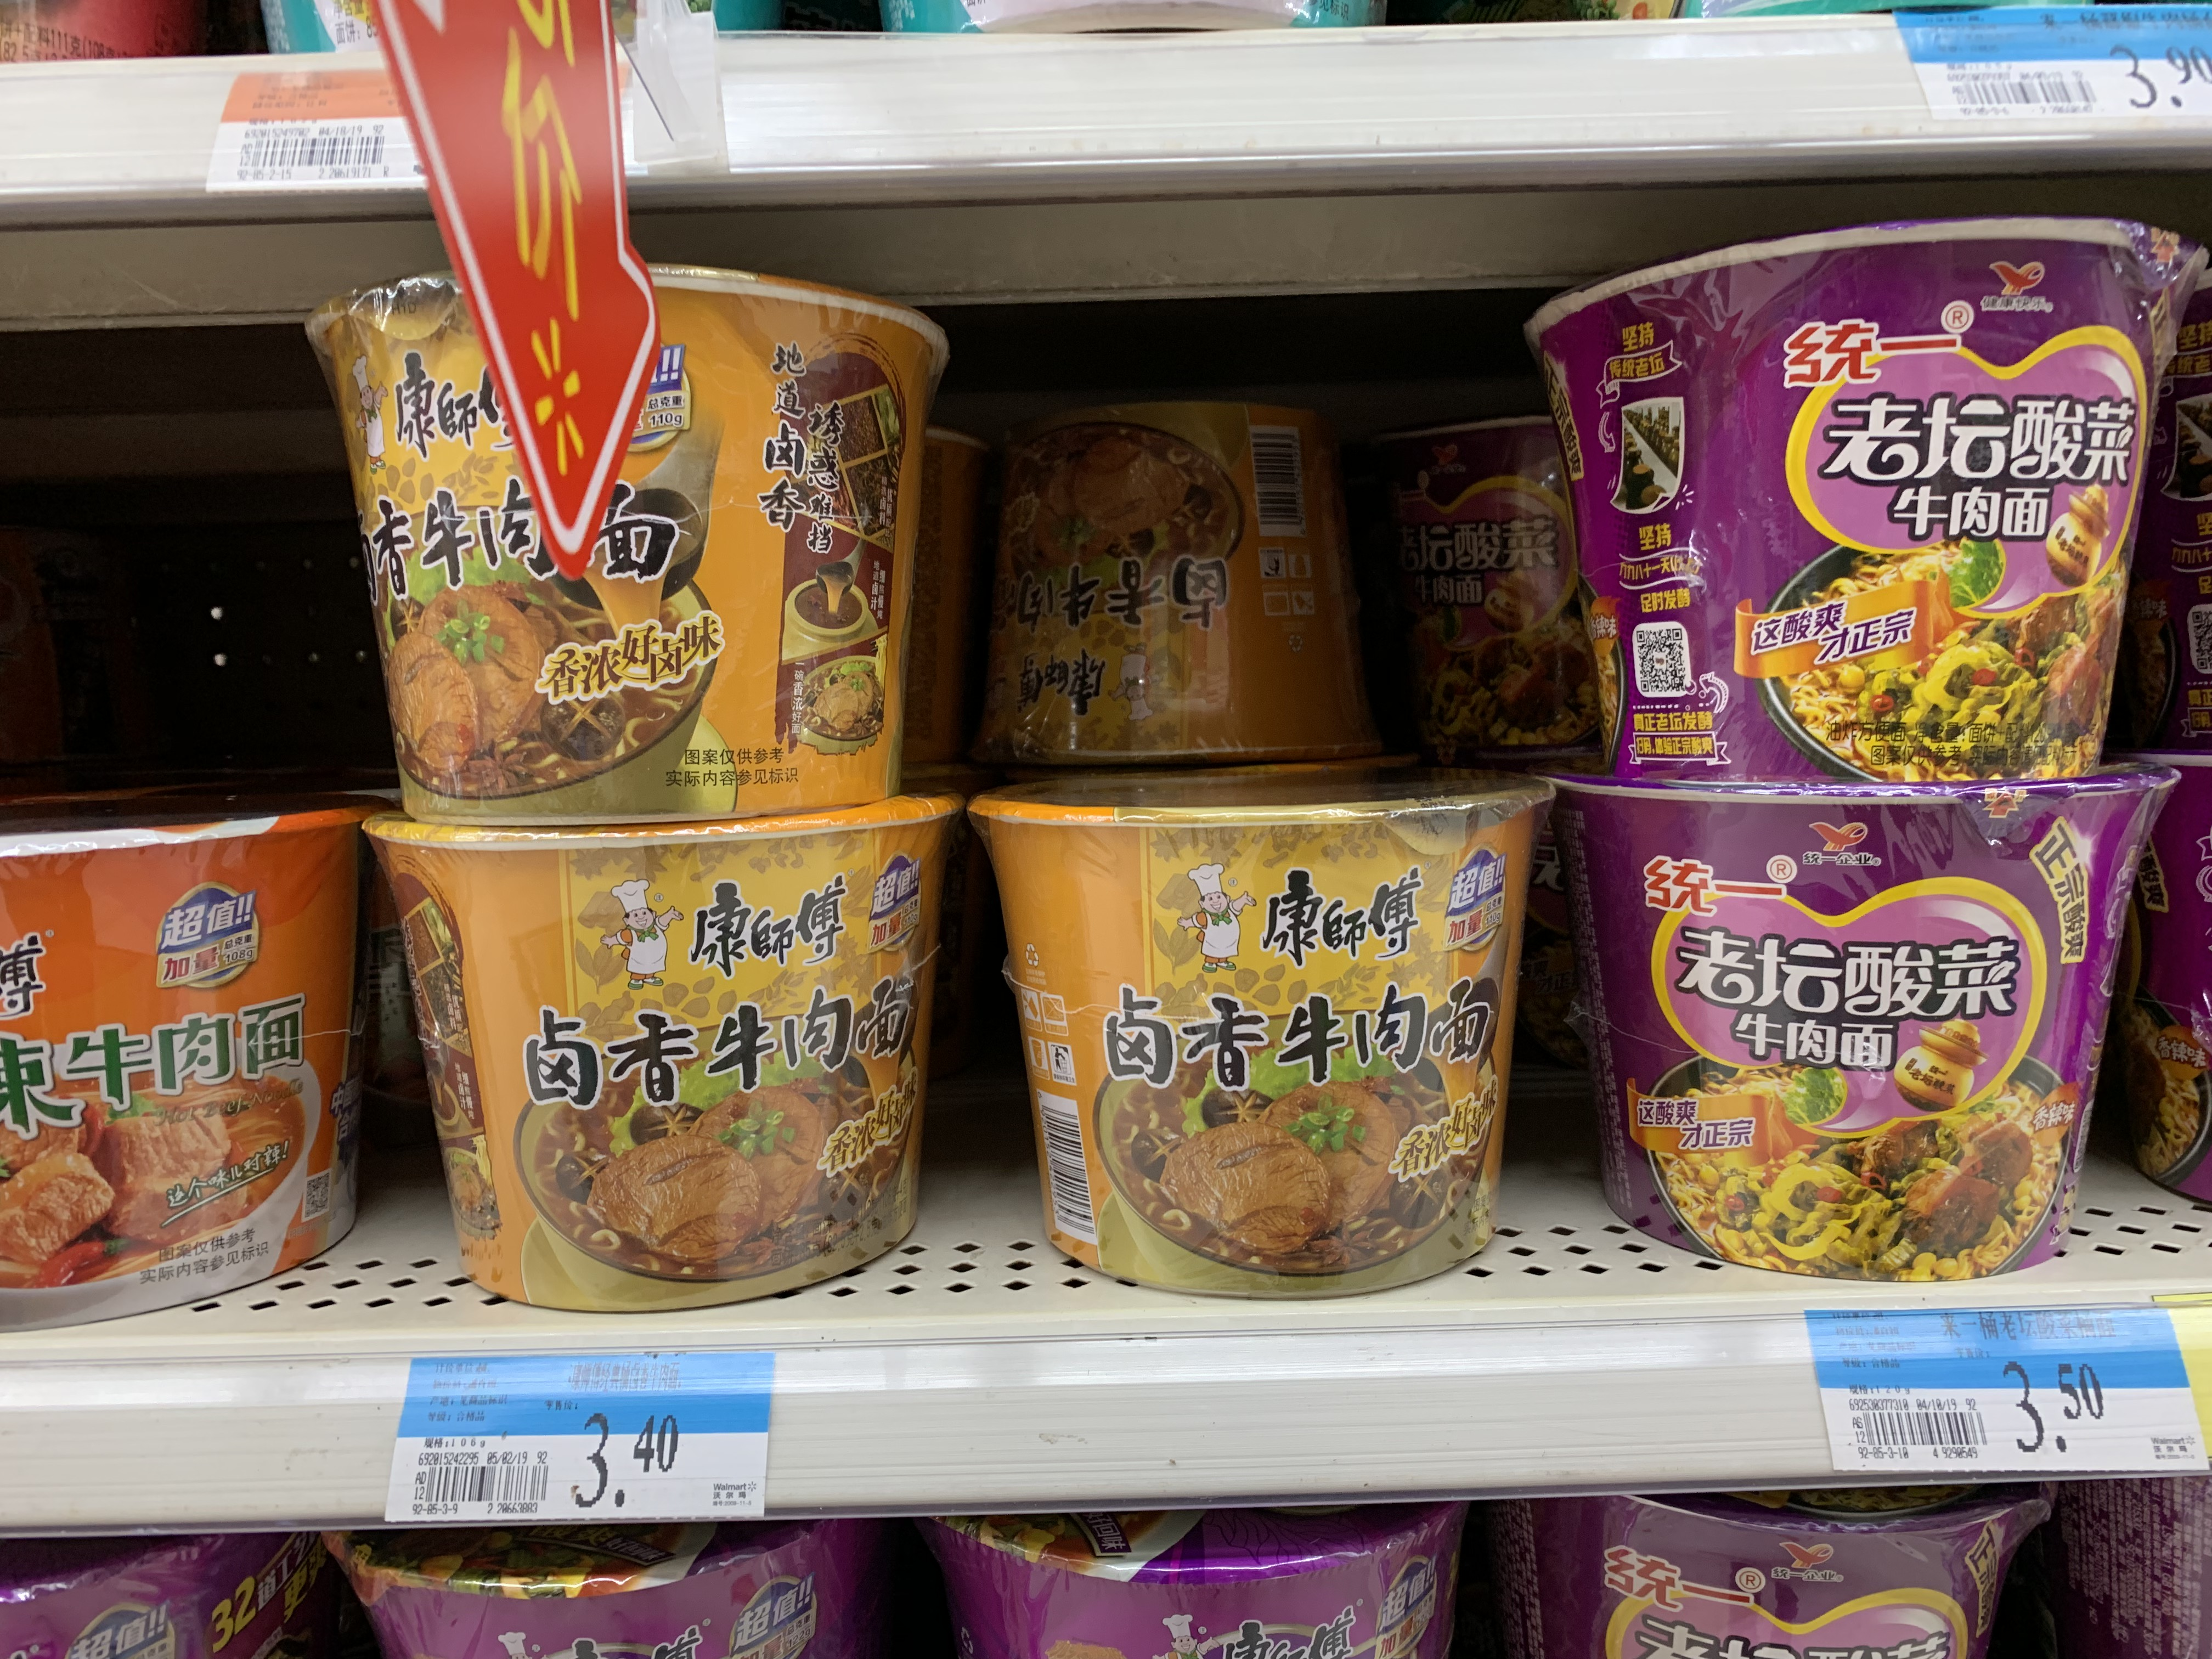luxiang: (300, 258, 951, 831), (968, 762, 1555, 1304), (362, 826, 967, 1317), (981, 392, 1395, 767)
xiangla: (0, 807, 364, 1335)
